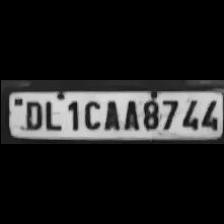1: (61, 97, 79, 130)
4: (177, 97, 199, 131), (198, 96, 218, 130)
7: (158, 97, 176, 130)
8: (139, 97, 159, 130)
A: (101, 97, 121, 130), (119, 97, 139, 130)
C: (80, 97, 100, 130)
D: (18, 97, 42, 130)
L: (41, 97, 61, 130)
